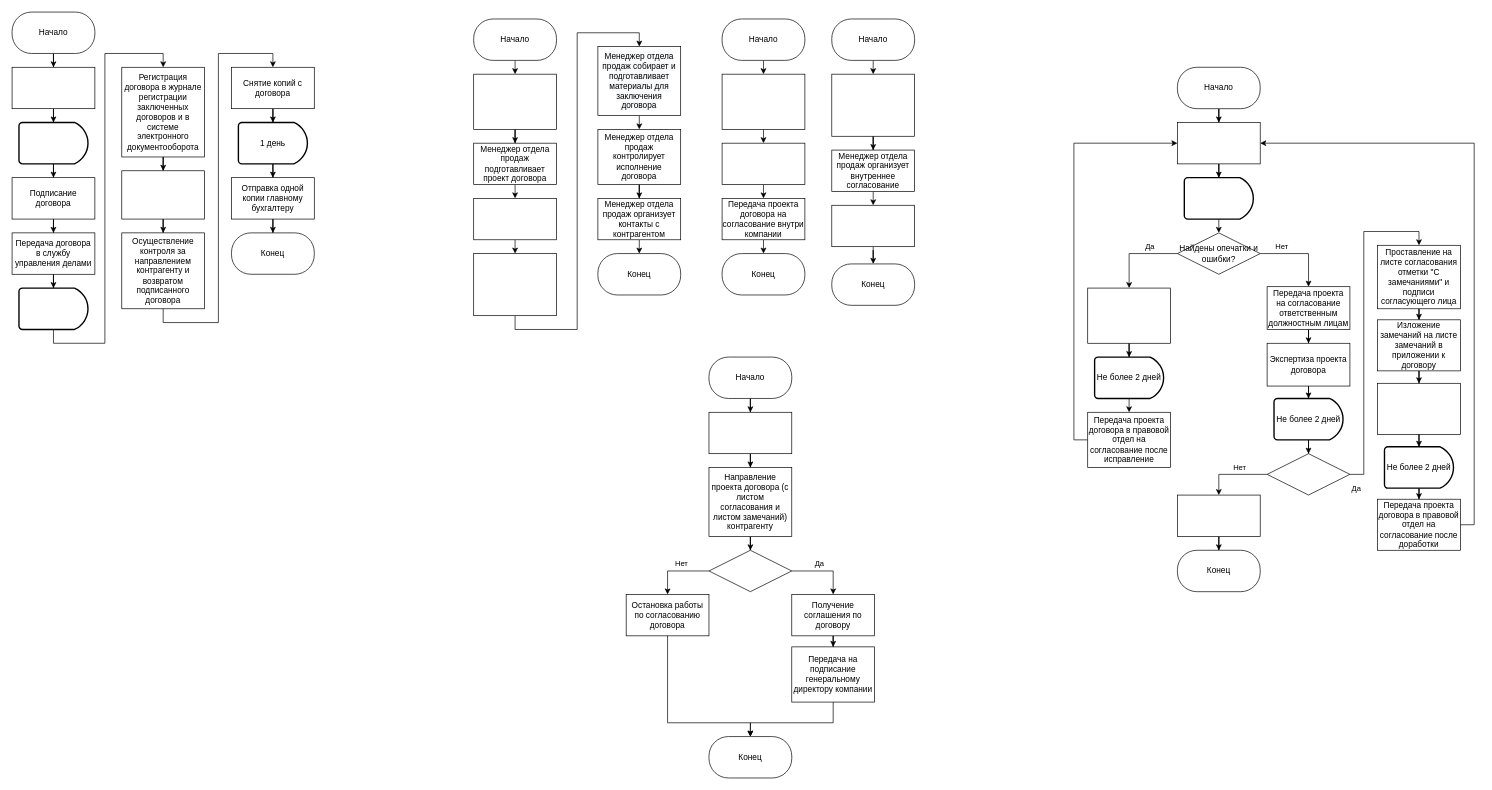
This 1492x790 diagram has some shape labels left out. The shapes that lost their labels are listed below. From the top down, each one's centre as x and y in pixels, then its label:
At [53,88]: "Получение договора на подписание".
At [514,101]: "Руководитель отдела продаж назначает менеджера отдела продаж".
At [763,101]: "Выявление требований заказчика к форме и содержанию договора".
At [873,104]: "Осуществление внутреннего согласования договора в форме проставления виз".
At [53,142]: "2 дня".
At [1218,143]: "Проверка проекта договора".
At [763,163]: "Составление проекта договора".
At [163,194]: "Направление подписанного экземпляра договора контрагенту".
At [1218,198]: "Не более 5 дней".
At [514,219]: "Менеджер отдела продаж сопровождает договор".
At [873,226]: "Рассмотрение проекта договора правовым отделом".
At [514,284]: "Менеджер отдела продаж осуществляет внутреннее согласование договора".
At [53,308]: "Не позднее 1 дня с даты его подписания".
At [1129,315]: "Возвращение проекта договора на исправление менеджеру отдела продаж".
At [1418,408]: "Возвращение проекта договора на доработку менеджеру отедла продаж".
At [750,433]: "Подготовка документов для контрагентов".
At [1308,474]: "Возникли замечания?".
At [1218,515]: "Проставление визы на листе согласования".
At [750,571]: "Соглашение достигнуто?".
